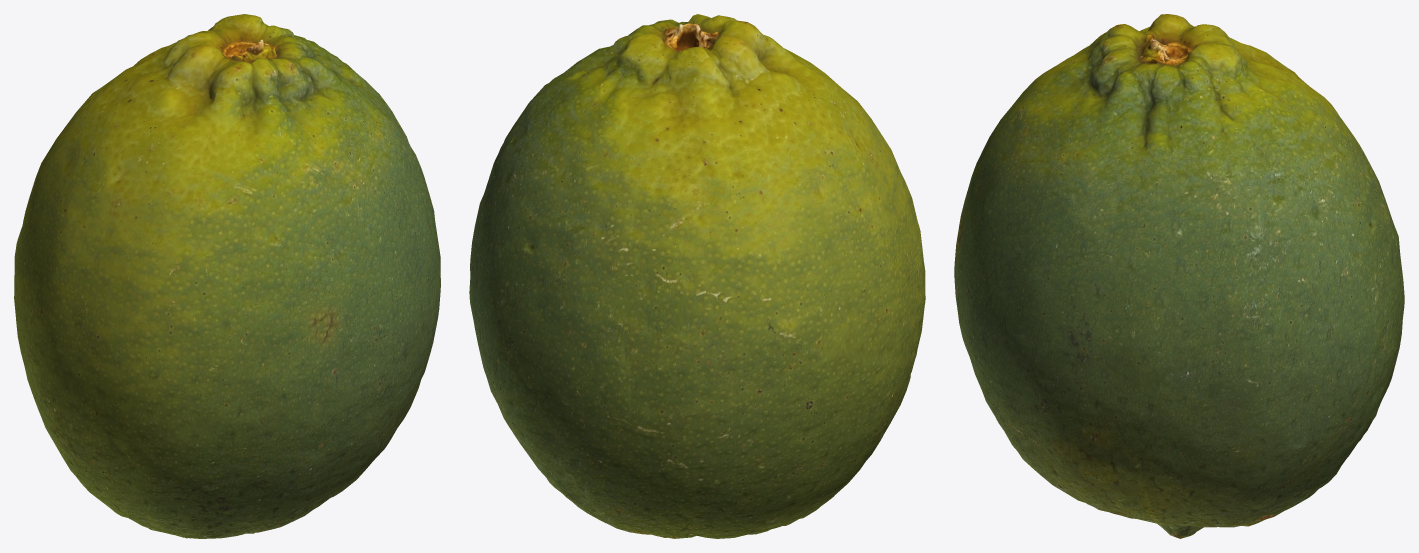
3 renders of one model, left to right at view 1: azimuth 30°, elevation 25°; view 2: azimuth 150°, elevation 25°; view 3: azimuth 270°, elevation 25°, orthographic.
Visible parts, largest first — view 1: food_lime_01; view 2: food_lime_01; view 3: food_lime_01.
Part boxes in pixels (x1,y1,x2,y2): food_lime_01: (14, 14, 440, 538); food_lime_01: (469, 14, 925, 538); food_lime_01: (954, 14, 1404, 538).
Size of the model in its own units: 0.0601 by 0.0754 by 0.0613.
1 material, 1 textured.
